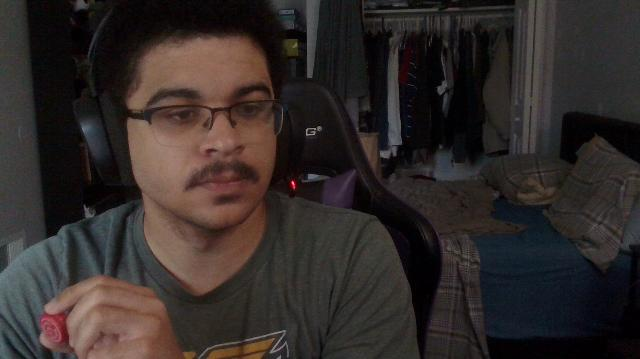cap: (40, 310, 70, 346)
